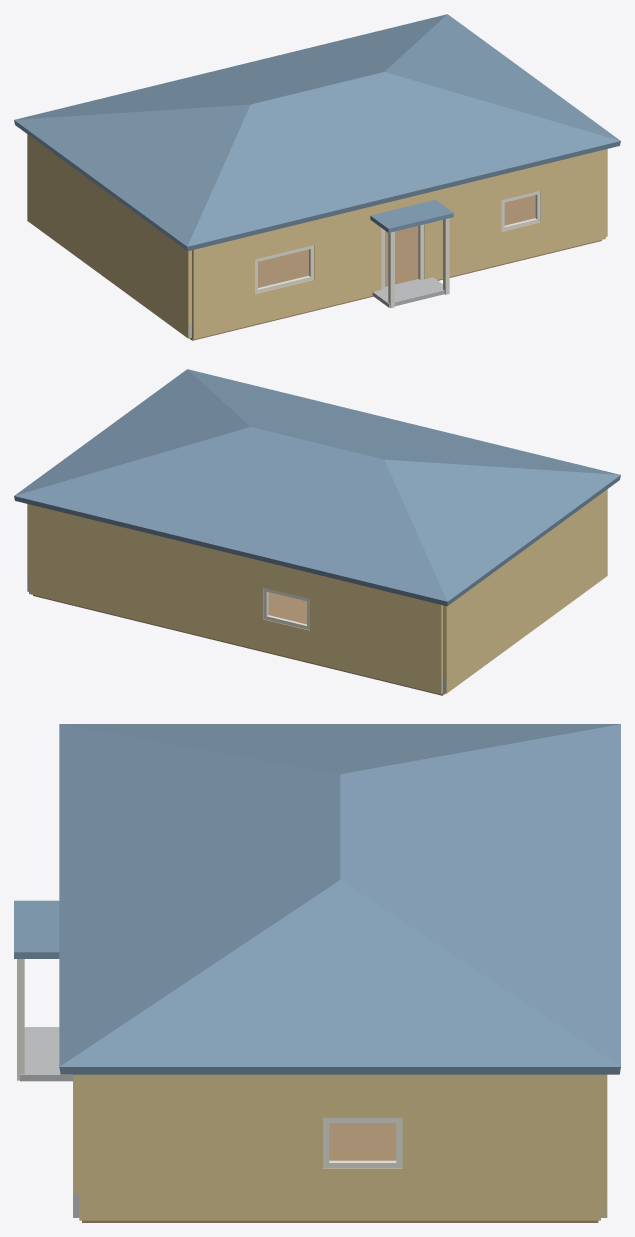
Rendered from CanadaHouse_PrairieBungalow_Enterable.glb.
The picture shows the model from 3 angles, top to bottom: view 1: azimuth 30°, elevation 25°; view 2: azimuth 150°, elevation 25°; view 3: azimuth 270°, elevation 25°; orthographic projection. The views are drawn at different scales.
Visible parts, largest first — view 1: FTF_CanadianTown_PrairieBungalow_Enterable_v5_LowHipRoof, FTF_CanadianTown_PrairieBungalow_Enterable_v5_FrontWall_Piec (×18), FTF_CanadianTown_PrairieBungalow_Enterable_v5_LeftWall_Piece, FTF_CanadianTown_PrairieBungalow_Enterable_v5_FloorMesh, FTF_CanadianTown_PrairieBungalow_Enterable_v5_EntryCanopy, FTF_CanadianTown_PrairieBungalow_Enterable_v5_EntryStoop, FTF_CanadianTown_PrairieBungalow_Enterable_v5_Entry_Post_1, FTF_CanadianTown_PrairieBungalow_Enterable_v5_Entry_Post_0; view 2: FTF_CanadianTown_PrairieBungalow_Enterable_v5_LowHipRoof, FTF_CanadianTown_PrairieBungalow_Enterable_v5_BackWall_Piece (×8), FTF_CanadianTown_PrairieBungalow_Enterable_v5_LeftWall_Piece, FTF_CanadianTown_PrairieBungalow_Enterable_v5_FloorMesh; view 3: FTF_CanadianTown_PrairieBungalow_Enterable_v5_LowHipRoof, FTF_CanadianTown_PrairieBungalow_Enterable_v5_RightWall_Piec (×8), FTF_CanadianTown_PrairieBungalow_Enterable_v5_FloorMesh, FTF_CanadianTown_PrairieBungalow_Enterable_v5_EntryCanopy, FTF_CanadianTown_PrairieBungalow_Enterable_v5_EntryStoop, FTF_CanadianTown_PrairieBungalow_Enterable_v5_Entry_Post_1.
Part boxes in pixels (x1=…): FTF_CanadianTown_PrairieBungalow_Enterable_v5_LowHipRoof: x1=14, y1=14, x2=620, y2=251; FTF_CanadianTown_PrairieBungalow_Enterable_v5_FrontWall_Piec (×18): x1=192, y1=149, x2=605, y2=339; FTF_CanadianTown_PrairieBungalow_Enterable_v5_LeftWall_Piece: x1=27, y1=134, x2=191, y2=338; FTF_CanadianTown_PrairieBungalow_Enterable_v5_FloorMesh: x1=190, y1=195, x2=601, y2=340; FTF_CanadianTown_PrairieBungalow_Enterable_v5_EntryCanopy: x1=370, y1=199, x2=453, y2=232; FTF_CanadianTown_PrairieBungalow_Enterable_v5_EntryStoop: x1=372, y1=277, x2=444, y2=307; FTF_CanadianTown_PrairieBungalow_Enterable_v5_Entry_Post_1: x1=443, y1=218, x2=449, y2=294; FTF_CanadianTown_PrairieBungalow_Enterable_v5_Entry_Post_0: x1=388, y1=231, x2=394, y2=307; FTF_CanadianTown_PrairieBungalow_Enterable_v5_LowHipRoof: x1=14, y1=369, x2=620, y2=606; FTF_CanadianTown_PrairieBungalow_Enterable_v5_BackWall_Piece (×8): x1=29, y1=504, x2=442, y2=694; FTF_CanadianTown_PrairieBungalow_Enterable_v5_LeftWall_Piece: x1=443, y1=489, x2=607, y2=693; FTF_CanadianTown_PrairieBungalow_Enterable_v5_FloorMesh: x1=33, y1=592, x2=444, y2=695; FTF_CanadianTown_PrairieBungalow_Enterable_v5_LowHipRoof: x1=59, y1=724, x2=620, y2=1074; FTF_CanadianTown_PrairieBungalow_Enterable_v5_RightWall_Piec (×8): x1=79, y1=1074, x2=600, y2=1220; FTF_CanadianTown_PrairieBungalow_Enterable_v5_FloorMesh: x1=82, y1=1123, x2=598, y2=1222; FTF_CanadianTown_PrairieBungalow_Enterable_v5_EntryCanopy: x1=14, y1=900, x2=59, y2=958; FTF_CanadianTown_PrairieBungalow_Enterable_v5_EntryStoop: x1=20, y1=1027, x2=72, y2=1081; FTF_CanadianTown_PrairieBungalow_Enterable_v5_Entry_Post_1: x1=17, y1=959, x2=24, y2=1080.
Bounding box in the file's own units: 14.3 × 4.55 × 10.7.
